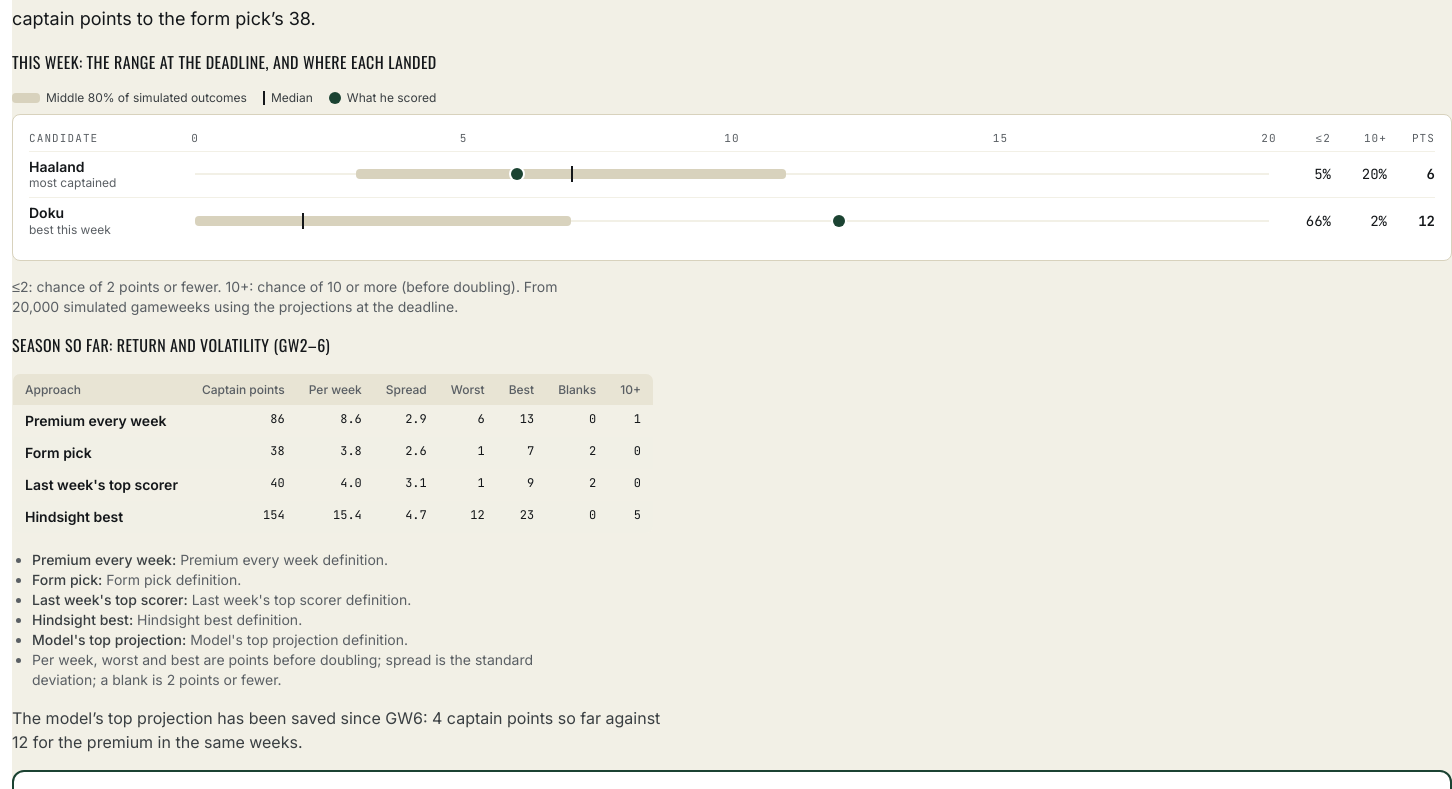
Test: gameweek reflection page › sorts a table when a header is clicked
(page scrolled)
Click the button "Captain points" at point(243, 389), box [202,382,285,397]
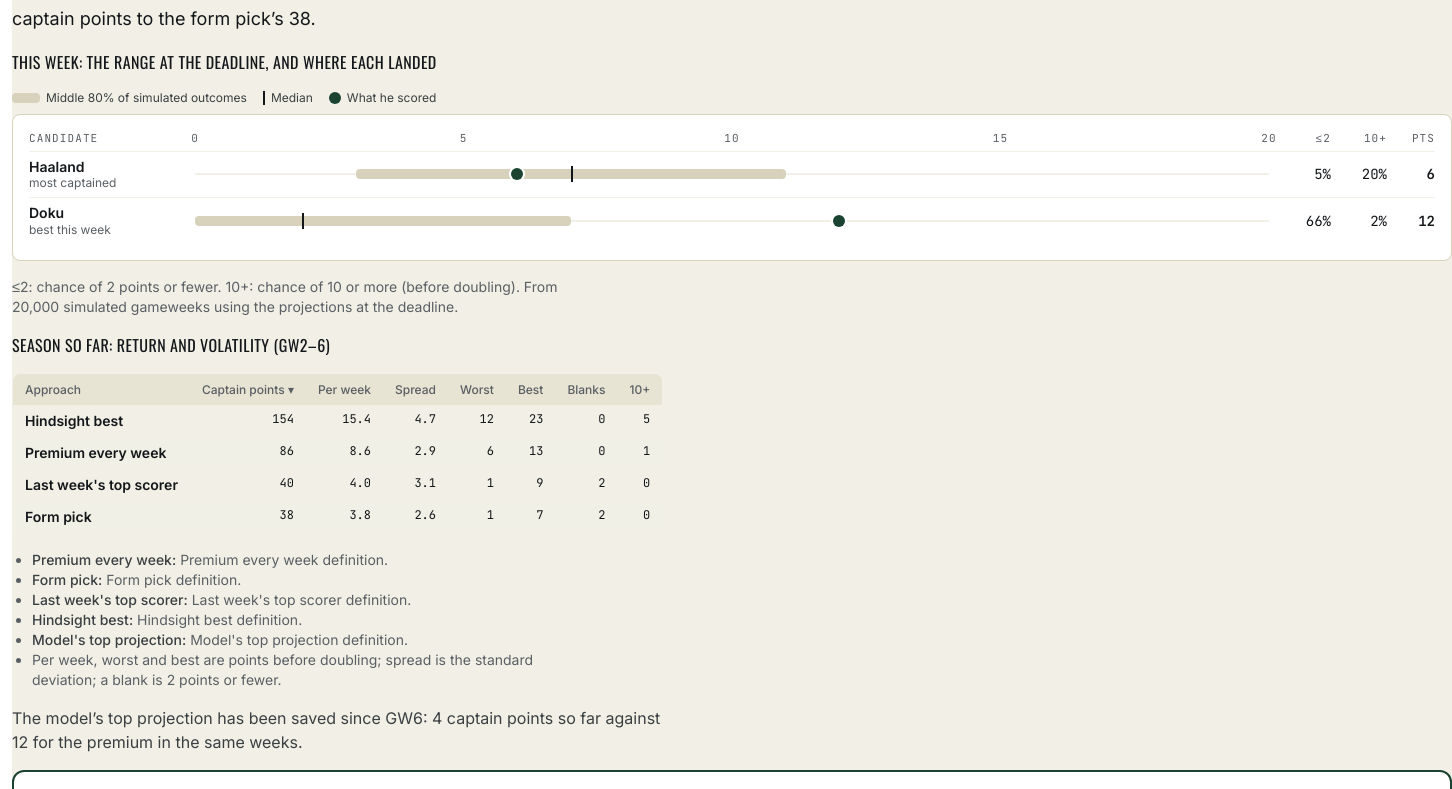
Now the row "Hindsight best 154 15.4 4.7 12 23 0 5" is shown, box [12,405,663,437]
